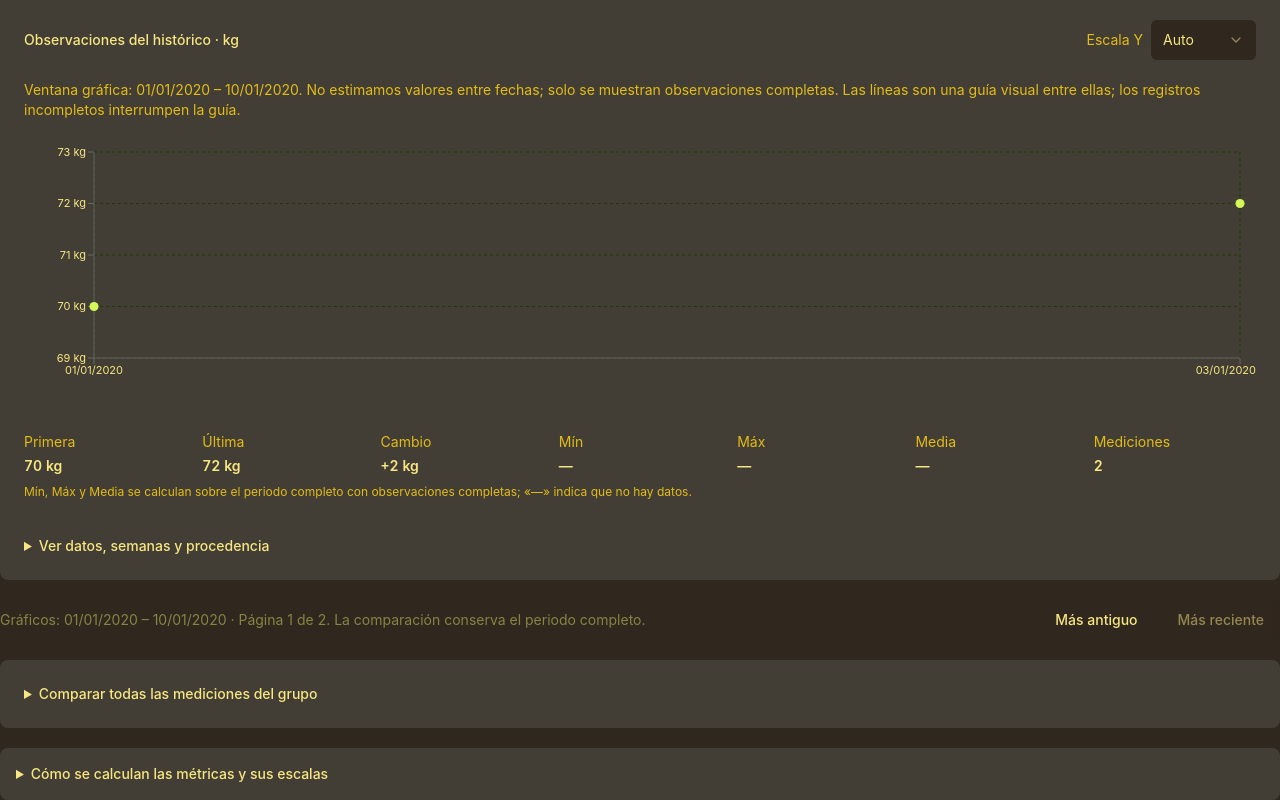
Métricas: interpretación y selección › mantiene paginación y grupos sin cambiar el periodo comparado
The image size is (1280, 800).
(page scrolled)
Expected: the button "Más reciente" is disabled, [1162,600,1279,640]
Click the button "Más antiguo" at (1096, 620), box [1039,600,1154,640]
(page scrolled)
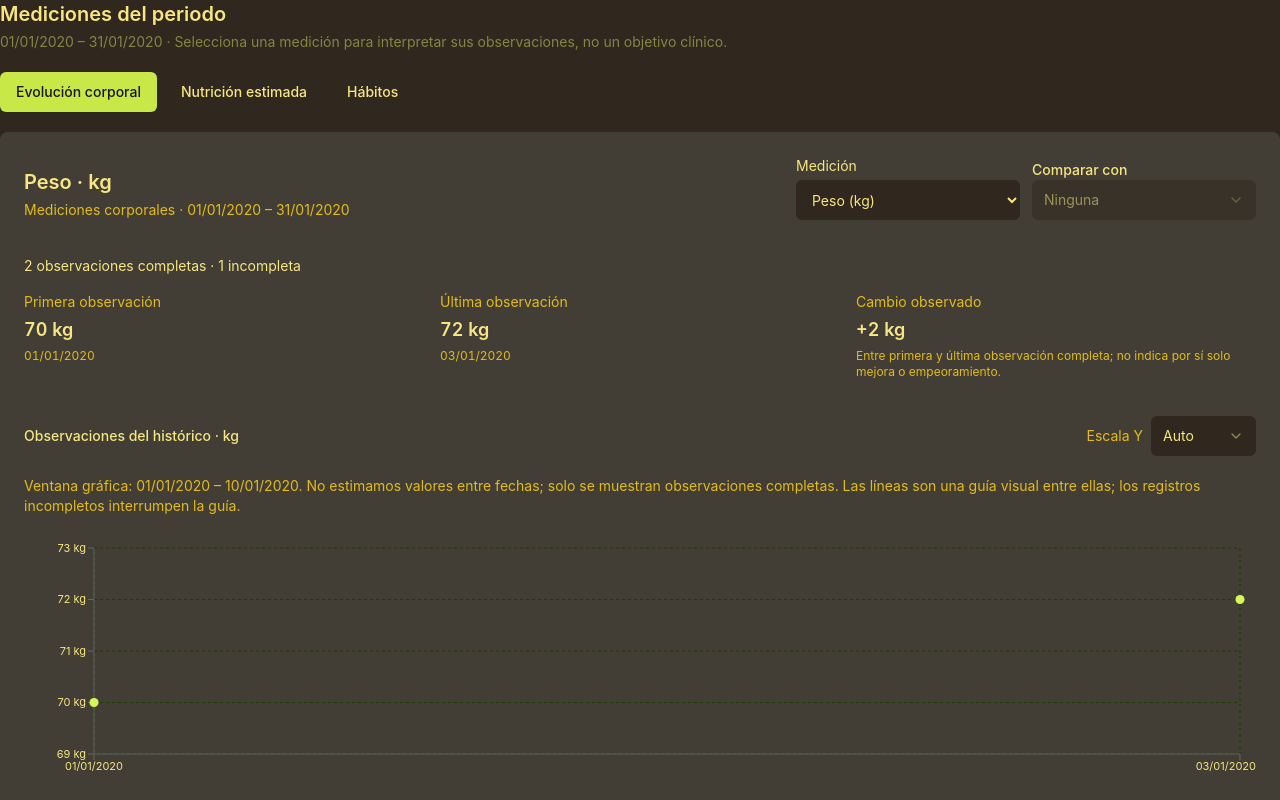
Click the button "Hábitos" at (373, 92), box [331,72,414,112]
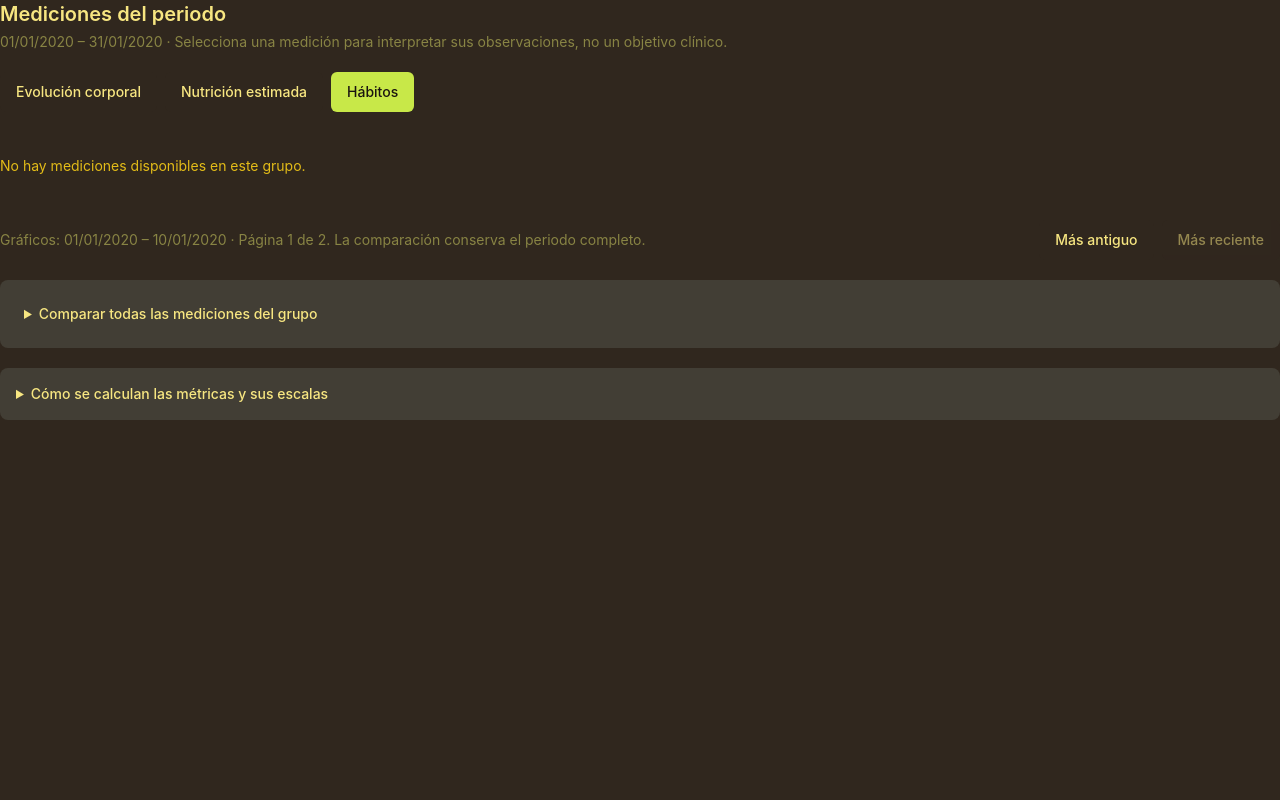
Now the text "No hay mediciones disponibles en este grupo." is shown, box [0,157,306,174]
